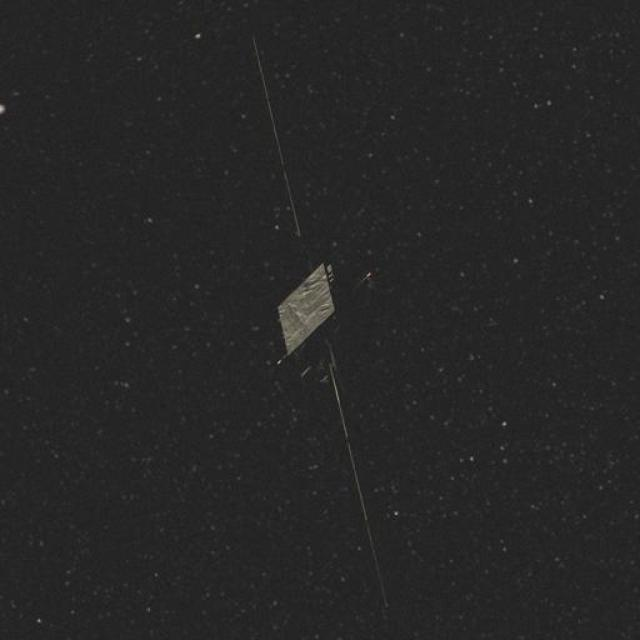smart_1: (222, 156, 425, 557)
